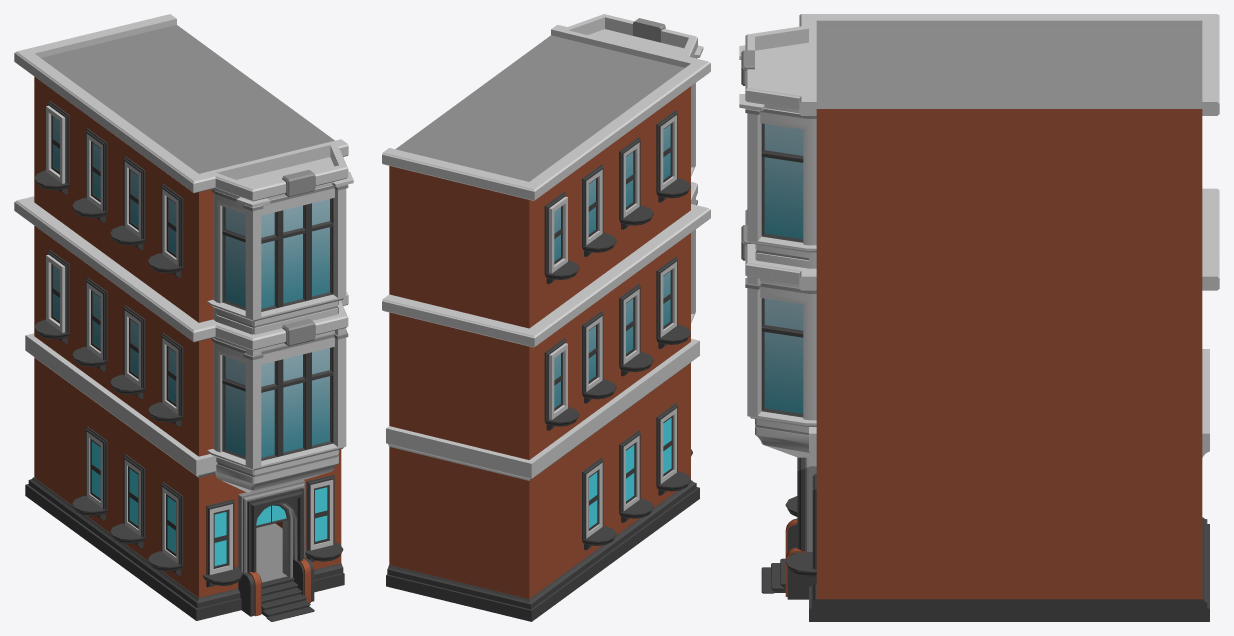
Rendered from SM_Buildings_House_03_V3.fbx.
The picture shows the model from 3 angles, left to right: view 1: azimuth 30°, elevation 25°; view 2: azimuth 150°, elevation 25°; view 3: azimuth 270°, elevation 25°; orthographic projection. The views are drawn at different scales.
Parts seen in each view (by area): view 1: SM_Buildings_House_03_V3; view 2: SM_Buildings_House_03_V3; view 3: SM_Buildings_House_03_V3.
Boxes of the visible parts, x1,y1,x2,y2 form: SM_Buildings_House_03_V3: [14, 14, 353, 621]; SM_Buildings_House_03_V3: [382, 14, 710, 621]; SM_Buildings_House_03_V3: [739, 14, 1219, 621].
Size of the model in its own units: 5.8 by 14.98 by 12.45.
